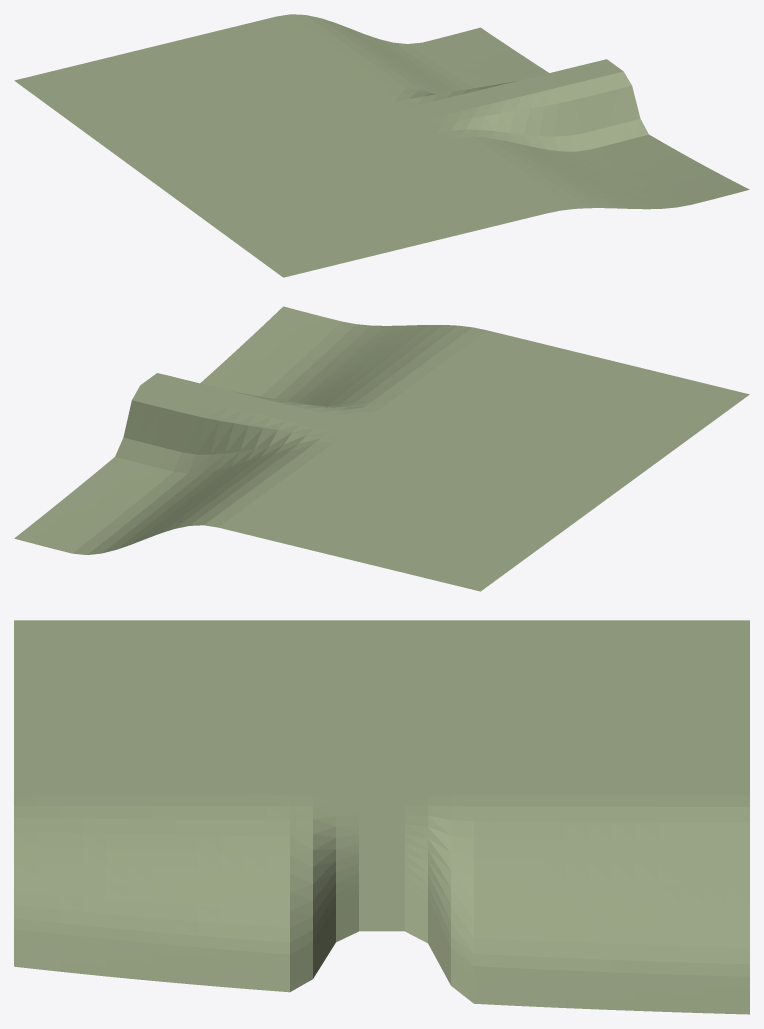
File: valley-8-12.glb
3 renders of one model, top to bottom at view 1: azimuth 30°, elevation 25°; view 2: azimuth 150°, elevation 25°; view 3: azimuth 270°, elevation 25°, orthographic. The views are drawn at different scales.
Parts seen in each view (by area): view 1: valley-8-12; view 2: valley-8-12; view 3: valley-8-12.
Boxes of the visible parts, x1,y1,x2,y2 form: valley-8-12: [14, 14, 749, 277]; valley-8-12: [14, 306, 749, 591]; valley-8-12: [14, 620, 749, 1014].
Size of the model in its own units: 256 by 32.32 by 256.
